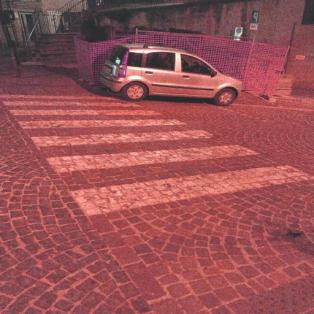Paso de Cebra: (22, 127, 263, 179), (0, 100, 168, 118)
